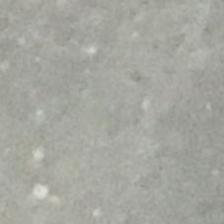Non_Crack: (25, 36, 206, 203)
